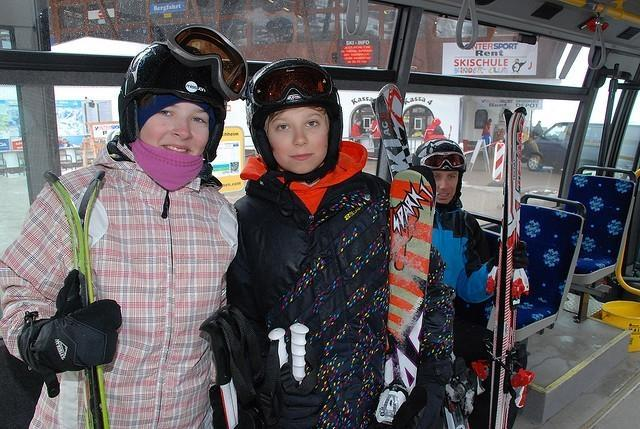truck: (520, 120, 640, 180)
